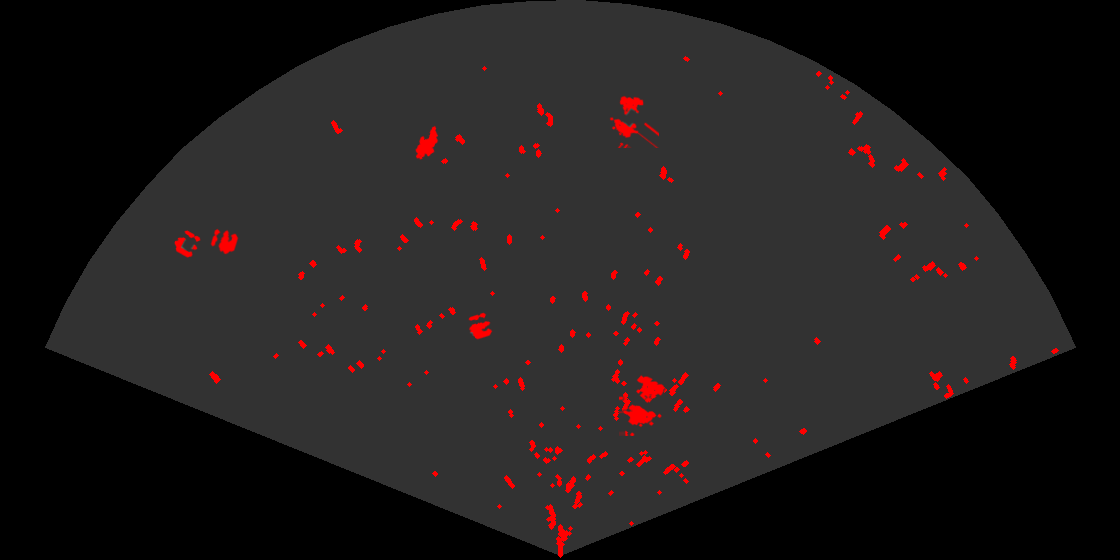AUV: (414, 124, 440, 161)
ball: (209, 227, 240, 256), (173, 229, 202, 259), (467, 311, 494, 341)
cage: (619, 373, 667, 436), (608, 94, 659, 148)
